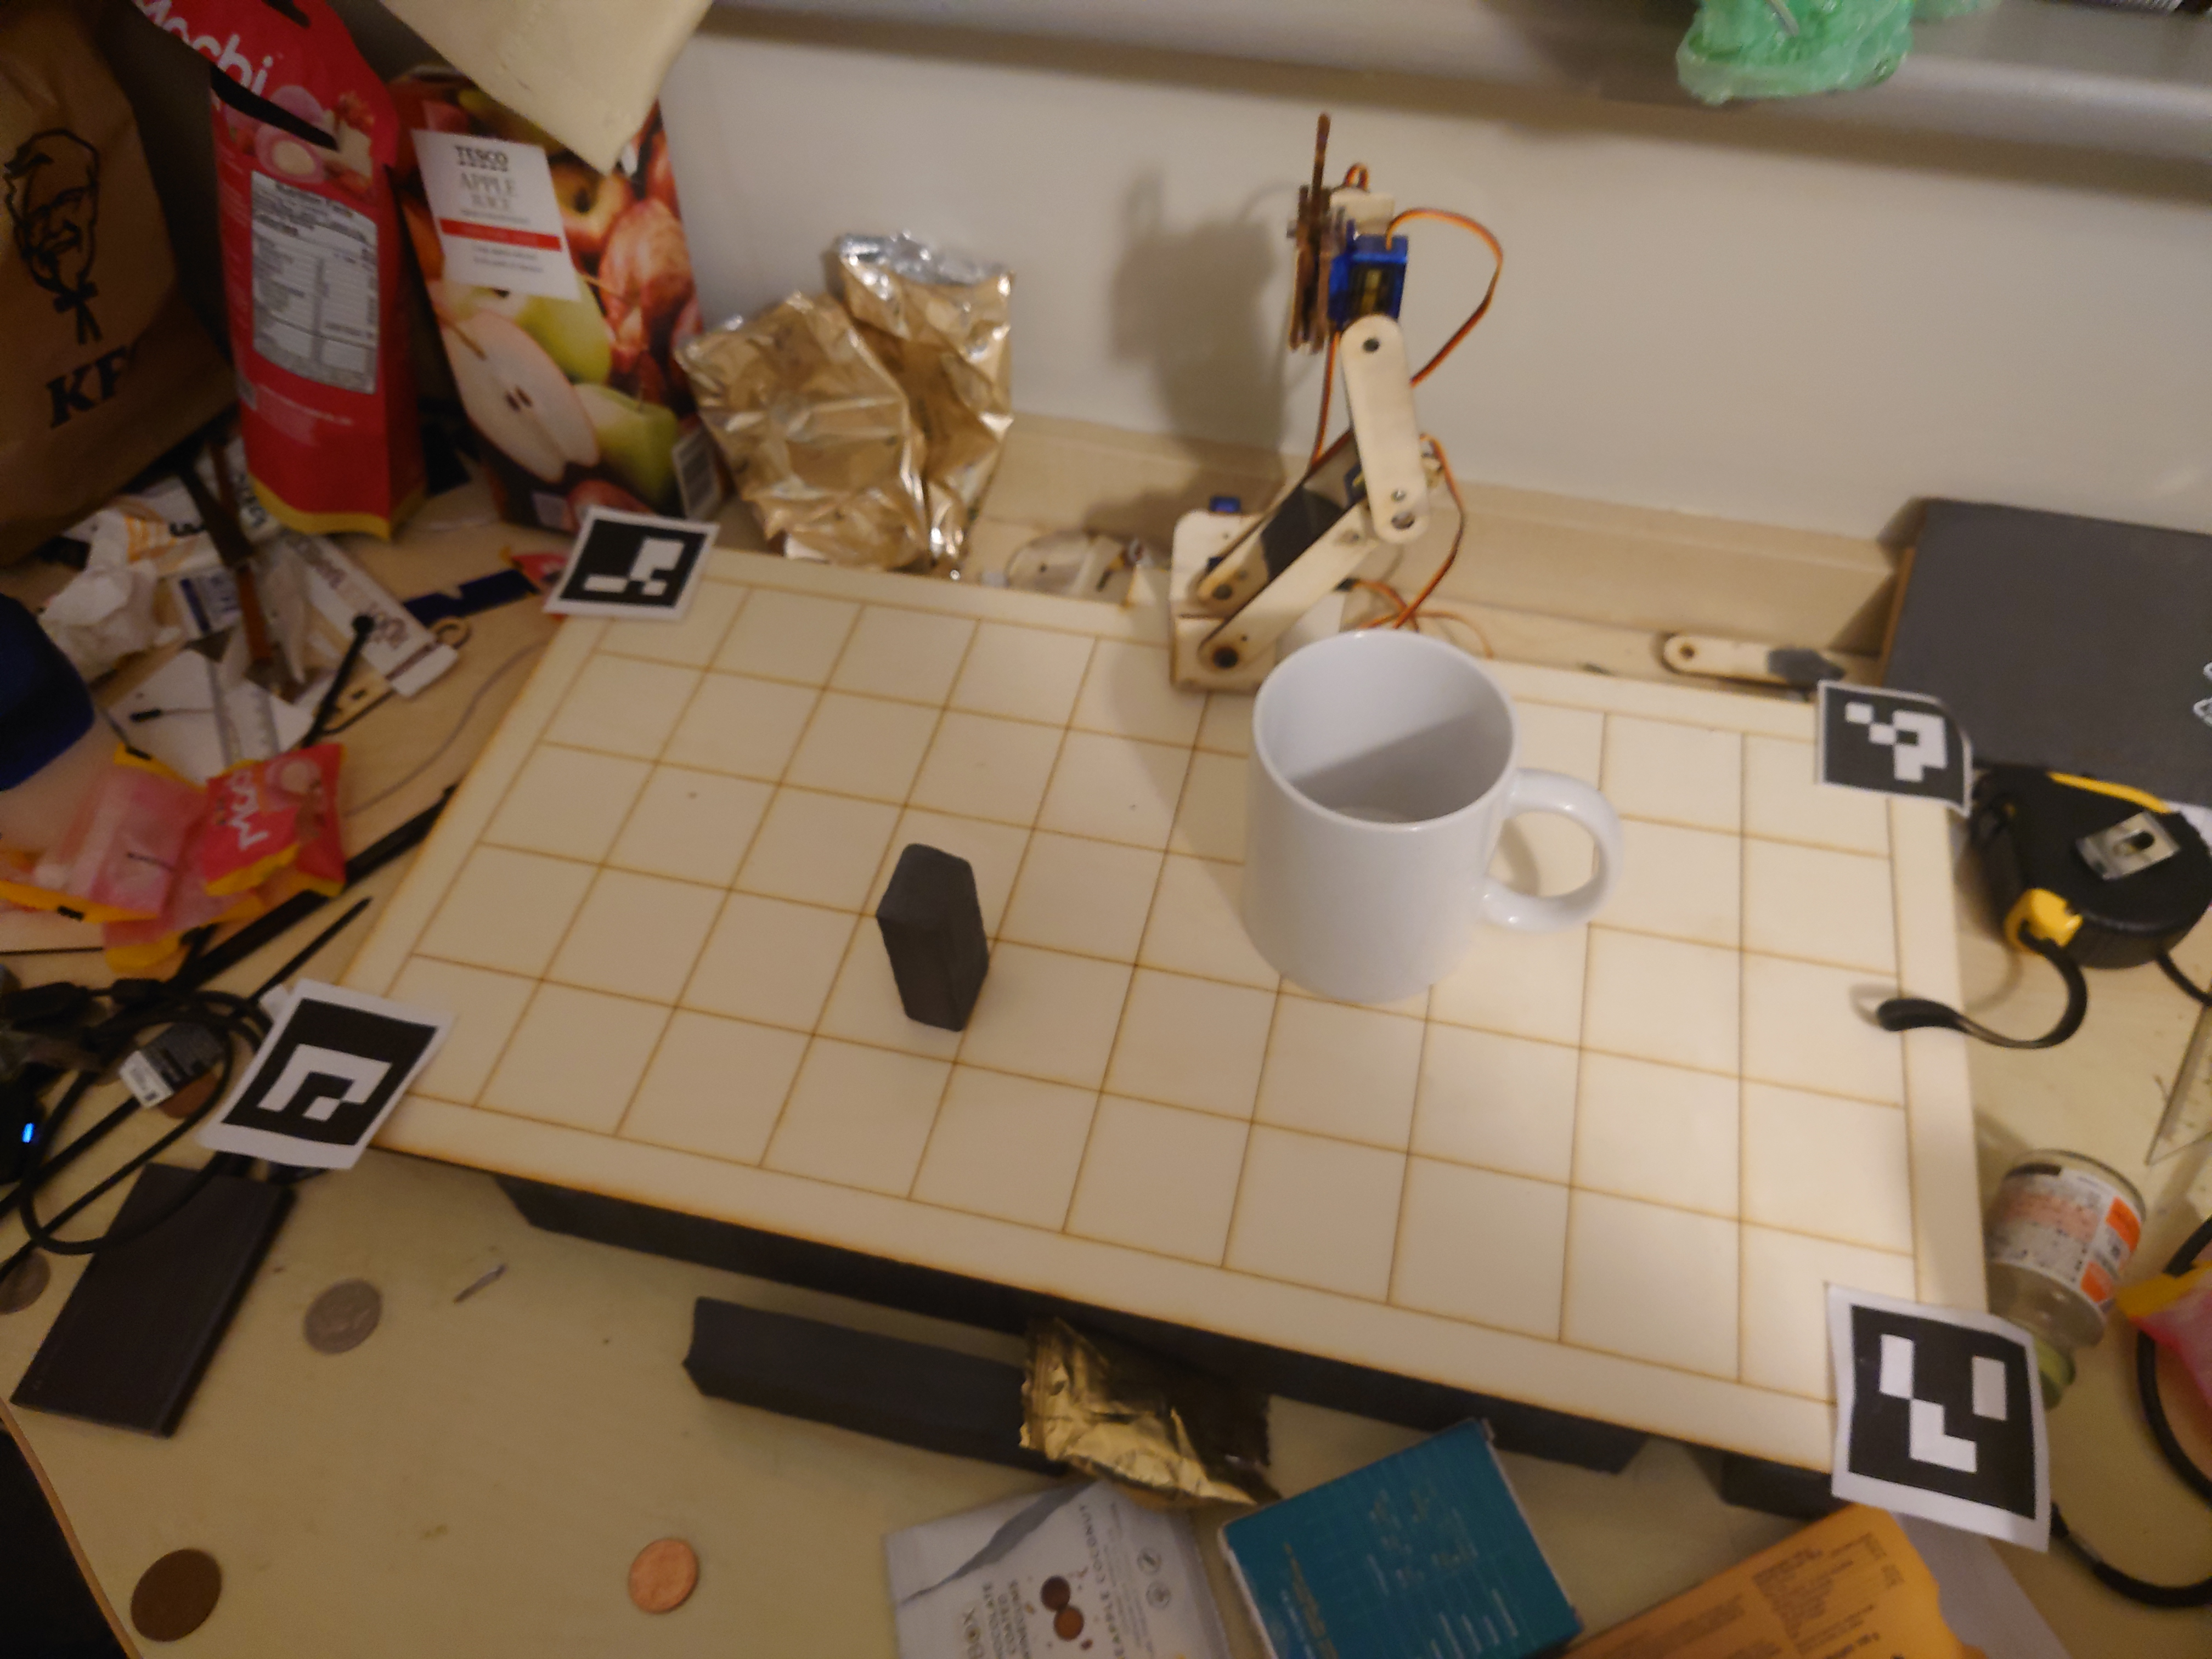cup: (1238, 615, 1611, 1014)
target: (876, 838, 996, 1035)
